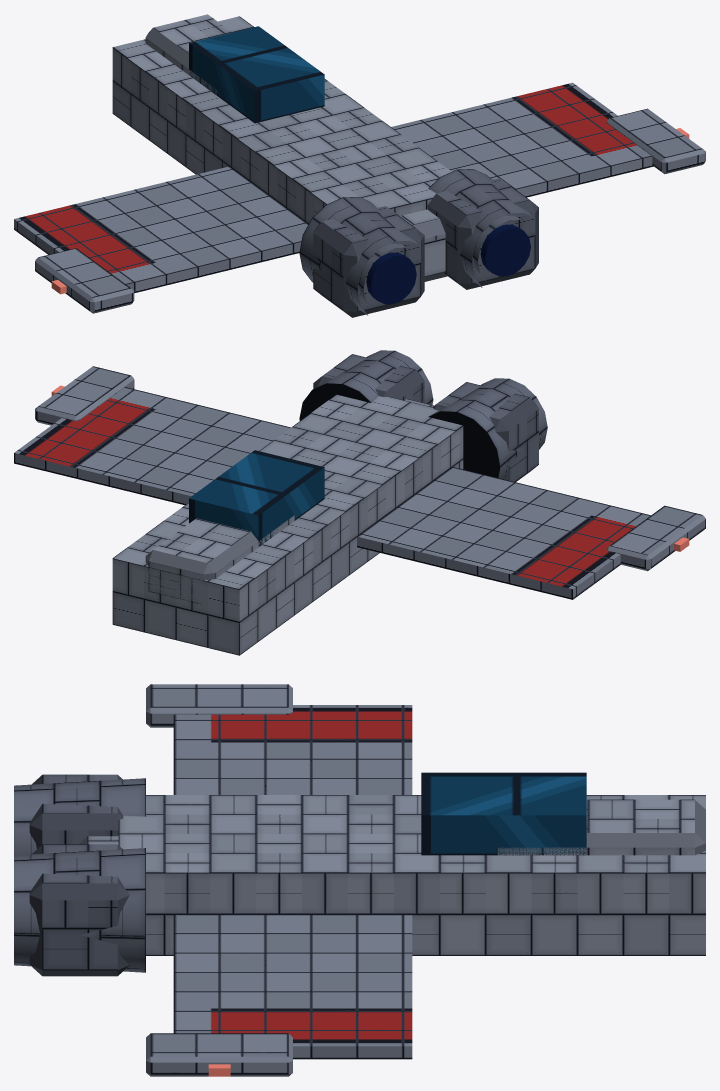
File: hero_ship_kitbash.glb
3 renders of one model, top to bottom at view 1: azimuth 30°, elevation 25°; view 2: azimuth 150°, elevation 25°; view 3: azimuth 270°, elevation 25°, orthographic. The views are drawn at different scales.
Parts seen in each view (by area): view 1: node-1, node-0, node-3, node-2, node-4; view 2: node-1, node-0, node-3, node-2; view 3: node-0, node-1, node-3, node-2.
Boxes of the visible parts, box(x1,y1,x2,y2) form: node-1: box(14, 82, 705, 313); node-0: box(112, 14, 451, 281); node-3: box(299, 169, 538, 317); node-2: box(189, 26, 324, 123); node-4: box(366, 224, 530, 304); node-1: box(14, 366, 705, 599); node-0: box(112, 394, 463, 655); node-3: box(299, 350, 547, 482); node-2: box(189, 450, 324, 546); node-0: box(79, 795, 705, 955); node-1: box(146, 684, 412, 1076); node-3: box(14, 774, 145, 976); node-2: box(421, 772, 586, 855).
Bounding box in the file's own units: 4.95 × 0.83 × 3.77.
6 materials, 5 textured.
